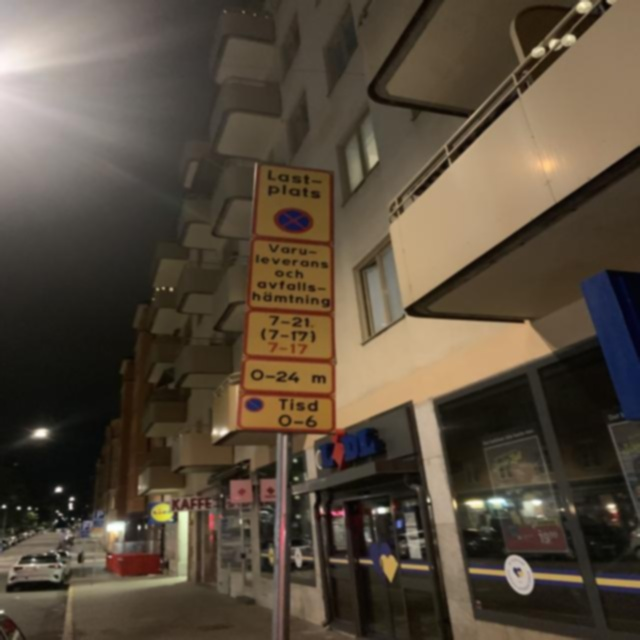lastplats: (254, 158, 338, 244)
